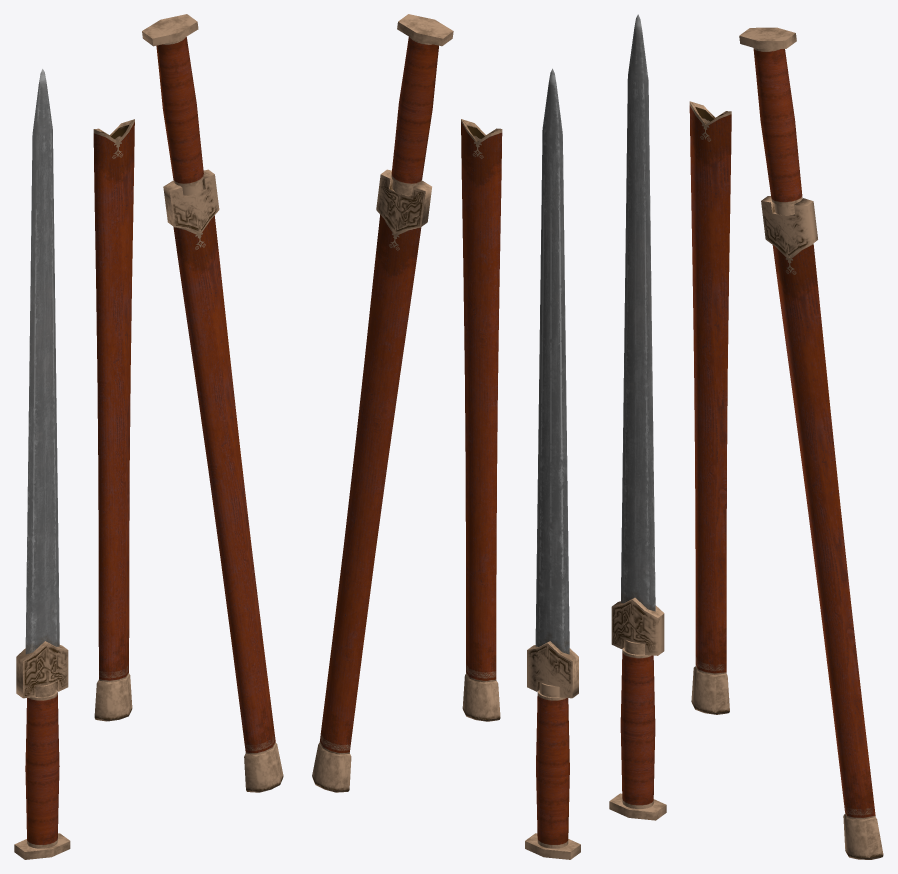
File: chinese_sword_han_jian.fbx
3 views of the same model, side by side, from view 1: azimuth 30°, elevation 25°; view 2: azimuth 150°, elevation 25°; view 3: azimuth 330°, elevation 25° (orthographic).
Parts seen in each view (by area): view 1: Sword & Sheave, Sword, Sheave; view 2: Sword & Sheave, Sword, Sheave; view 3: Sword & Sheave, Sword, Sheave.
Part boxes in pixels (x1,y1,x2,y2): Sword & Sheave: [142, 14, 283, 792]; Sword: [14, 69, 70, 859]; Sheave: [93, 119, 134, 721]; Sword & Sheave: [312, 14, 453, 792]; Sword: [525, 68, 580, 859]; Sheave: [461, 119, 502, 721]; Sword & Sheave: [739, 27, 883, 859]; Sword: [609, 14, 666, 820]; Sheave: [689, 101, 731, 714].
Size of the model in its own units: 59.13 by 171 by 7.13.
1 material, 1 textured.
